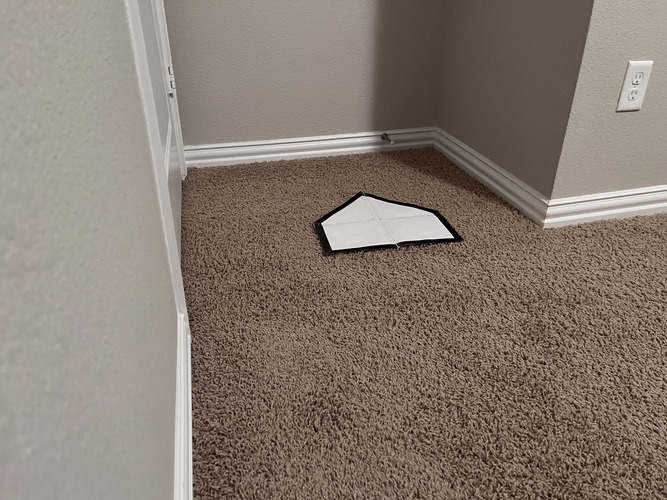homeplate: (313, 191, 463, 254)
